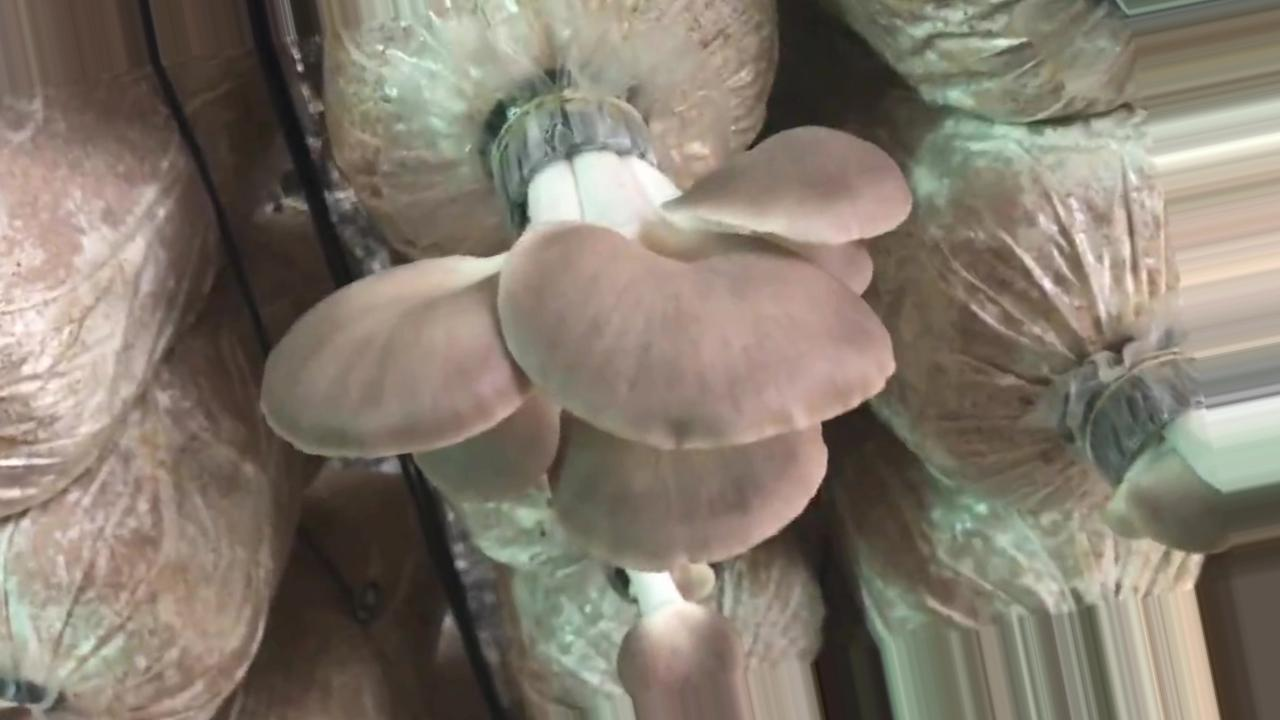nam: (263, 92, 910, 571), (610, 562, 753, 720)
